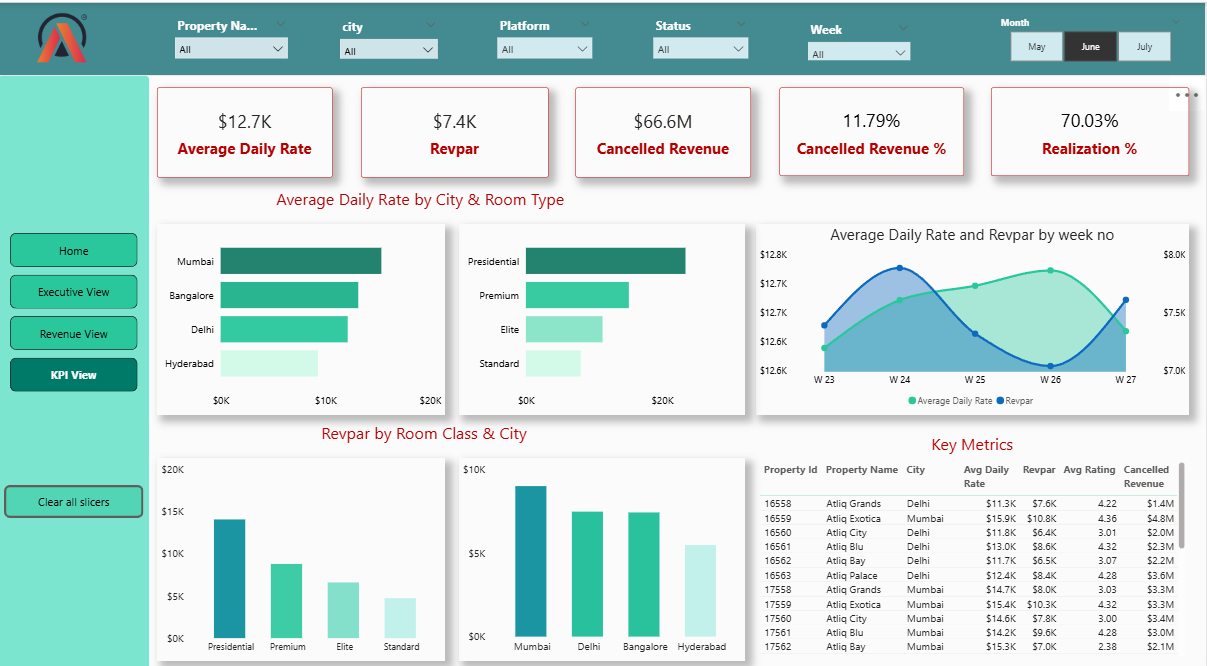

The page's visual inventory and layout, read from the dashboard file:
{"tool":"powerbi","page":{"name":"KPI View","canvas":[1600,900],"ordinal":3},"visuals":[{"type":"card","fields":{"Values":["Key Measures.Cancelled Revenue %"]},"box":[1034.9,113.3,244.6,117.3],"z":0},{"type":"card","fields":{"Values":["Key Measures.Cancelled Revenue"]},"box":[765.5,113.3,232.6,119.3],"z":1000},{"type":"card","fields":{"Values":["Key Measures.Revpar"]},"box":[480.2,113.3,248.5,119.3],"z":2000},{"type":"card","fields":{"Values":["Key Measures.Average Daily Rate"]},"box":[210.8,113.3,232.6,119.3],"z":3000},{"type":"barChart","title":"Average Daily Rate ","fields":{"Y":["Key Measures.Average Daily Rate"],"Category":["dim_hotels.city"]},"box":[210.8,294.3,381.7,252.5],"z":4000},{"type":"barChart","title":"Average Daily Rate","fields":{"Y":["Key Measures.Average Daily Rate"],"Category":["dim_rooms.room_class"]},"box":[610.4,294.3,379.8,252.5],"z":5000},{"type":"columnChart","fields":{"Y":["Key Measures.Revpar"],"Category":["dim_rooms.room_class"]},"box":[210.8,604.4,381.7,268.4],"z":6000},{"type":"columnChart","fields":{"Y":["Key Measures.Revpar"],"Category":["dim_hotels.city"]},"box":[610.4,604.4,379.8,268.4],"z":7000},{"type":"tableEx","fields":{"Values":["dim_hotels.property_id","dim_hotels.property_name","dim_hotels.city","Key Measures.Average Daily Rate","Key Measures.Revpar","Key Measures.Avg Rating","Key Measures.Cancelled Revenue"]},"box":[1004.1,604.4,574.6,268.4],"z":8000},{"type":"lineChart","fields":{"Category":["dim_date.week no"],"Y":["Key Measures.Average Daily Rate"],"Y2":["Key Measures.Revpar"]},"box":[1004.1,294.3,574.6,252.5],"z":9000},{"type":"shape","box":[0,0,1600.6,97.4],"z":10000},{"type":"slicer","fields":{"Values":["dim_date.Month Name"]},"box":[1316.2,13.9,262.5,71.6],"z":11000},{"type":"image","box":[15.9,8,139.2,77.5],"z":12000},{"type":"slicer","fields":{"Values":["dim_hotels.property_name"]},"box":[224.7,13.9,169,63.6],"z":13000},{"type":"slicer","fields":{"Values":["dim_hotels.city"]},"box":[442.6,15.7,149.1,59.6],"z":14000},{"type":"slicer","fields":{"Values":["dim_date.Week_No"]},"box":[1063.7,19.9,155.1,57.7],"z":15000},{"type":"slicer","fields":{"Values":["fact_bookings.booking_status"]},"box":[858.5,13.8,145.1,63.6],"z":16000},{"type":"slicer","fields":{"Values":["fact_bookings.booking_platform"]},"box":[652.5,13.8,145.1,63.6],"z":17000},{"type":"shape","box":[0,96.9,200.8,800.8],"z":18000},{"type":"textbox","box":[210.8,240.6,697.9,53.7],"z":19000},{"type":"textbox","box":[210.8,550.7,707.8,53.7],"z":20000},{"type":"card","fields":{"Values":["Key Measures.Realization %"]},"box":[1316.2,113.3,262.5,117.3],"z":21000},{"type":"textbox","box":[1004.1,564.7,574.6,39.8],"z":22000},{"type":"pageNavigator","box":[15.9,306.2,169,210.8],"z":23000},{"type":"actionButton","box":[8,640.2,184.9,43.7],"z":24000}]}

Visuals, with their boxes in screenshot pixels (x1, y1, x2, y2), scaled from the page's 1600x900 canvas onto the 1207x666 screenshot:
card - Key Measures.Cancelled Revenue %: [x1=781, y1=84, x2=965, y2=171]
card - Key Measures.Cancelled Revenue: [x1=577, y1=84, x2=753, y2=172]
card - Key Measures.Revpar: [x1=362, y1=84, x2=550, y2=172]
card - Key Measures.Average Daily Rate: [x1=159, y1=84, x2=334, y2=172]
"Average Daily Rate " barChart: [x1=159, y1=218, x2=447, y2=405]
"Average Daily Rate" barChart: [x1=460, y1=218, x2=747, y2=405]
columnChart - Key Measures.Revpar x dim_rooms.room_class: [x1=159, y1=447, x2=447, y2=646]
columnChart - Key Measures.Revpar x dim_hotels.city: [x1=460, y1=447, x2=747, y2=646]
tableEx - dim_hotels.property_id x dim_hotels.property_name: [x1=757, y1=447, x2=1191, y2=646]
lineChart - dim_date.week no x Key Measures.Average Daily Rate: [x1=757, y1=218, x2=1191, y2=405]
shape: [x1=0, y1=0, x2=1206, y2=72]
slicer - dim_date.Month Name: [x1=993, y1=10, x2=1191, y2=63]
image: [x1=12, y1=6, x2=117, y2=63]
slicer - dim_hotels.property_name: [x1=170, y1=10, x2=297, y2=57]
slicer - dim_hotels.city: [x1=334, y1=12, x2=446, y2=56]
slicer - dim_date.Week_No: [x1=802, y1=15, x2=919, y2=57]
slicer - fact_bookings.booking_status: [x1=648, y1=10, x2=757, y2=57]
slicer - fact_bookings.booking_platform: [x1=492, y1=10, x2=602, y2=57]
shape: [x1=0, y1=72, x2=151, y2=664]
textbox: [x1=159, y1=178, x2=686, y2=218]
textbox: [x1=159, y1=408, x2=693, y2=447]
card - Key Measures.Realization %: [x1=993, y1=84, x2=1191, y2=171]
textbox: [x1=757, y1=418, x2=1191, y2=447]
pageNavigator: [x1=12, y1=227, x2=139, y2=383]
actionButton: [x1=6, y1=474, x2=146, y2=506]
